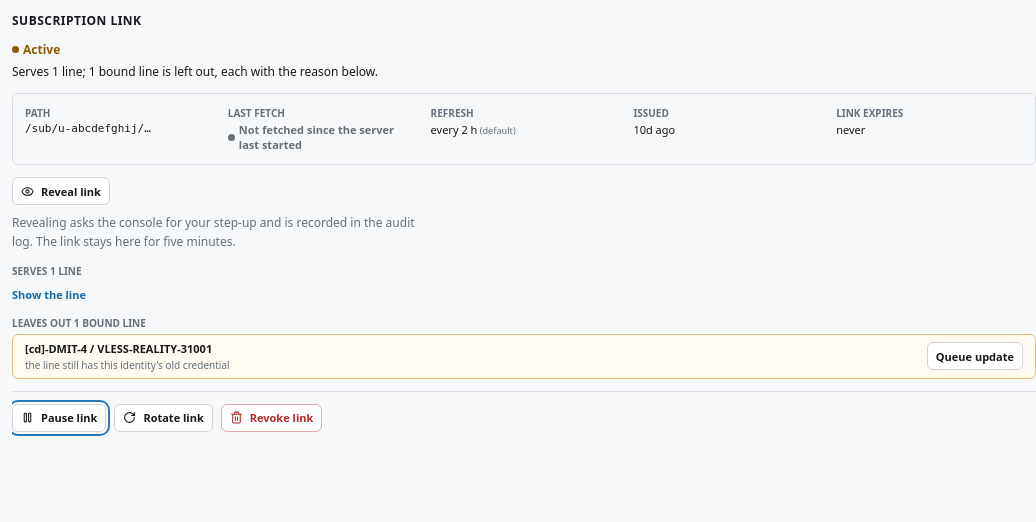
Test case: focus follows the action › keeps Pause and Resume on one button, so focus stays on it
Click the button "Pause link" at (59, 418), box [12, 404, 106, 432]
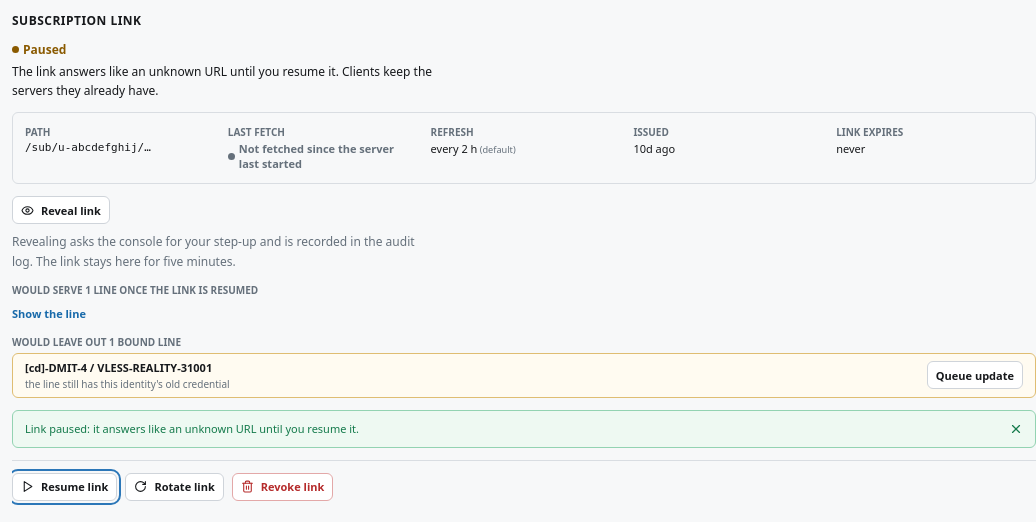
Expected: the button "Resume link" is shown, [12, 473, 117, 501]
